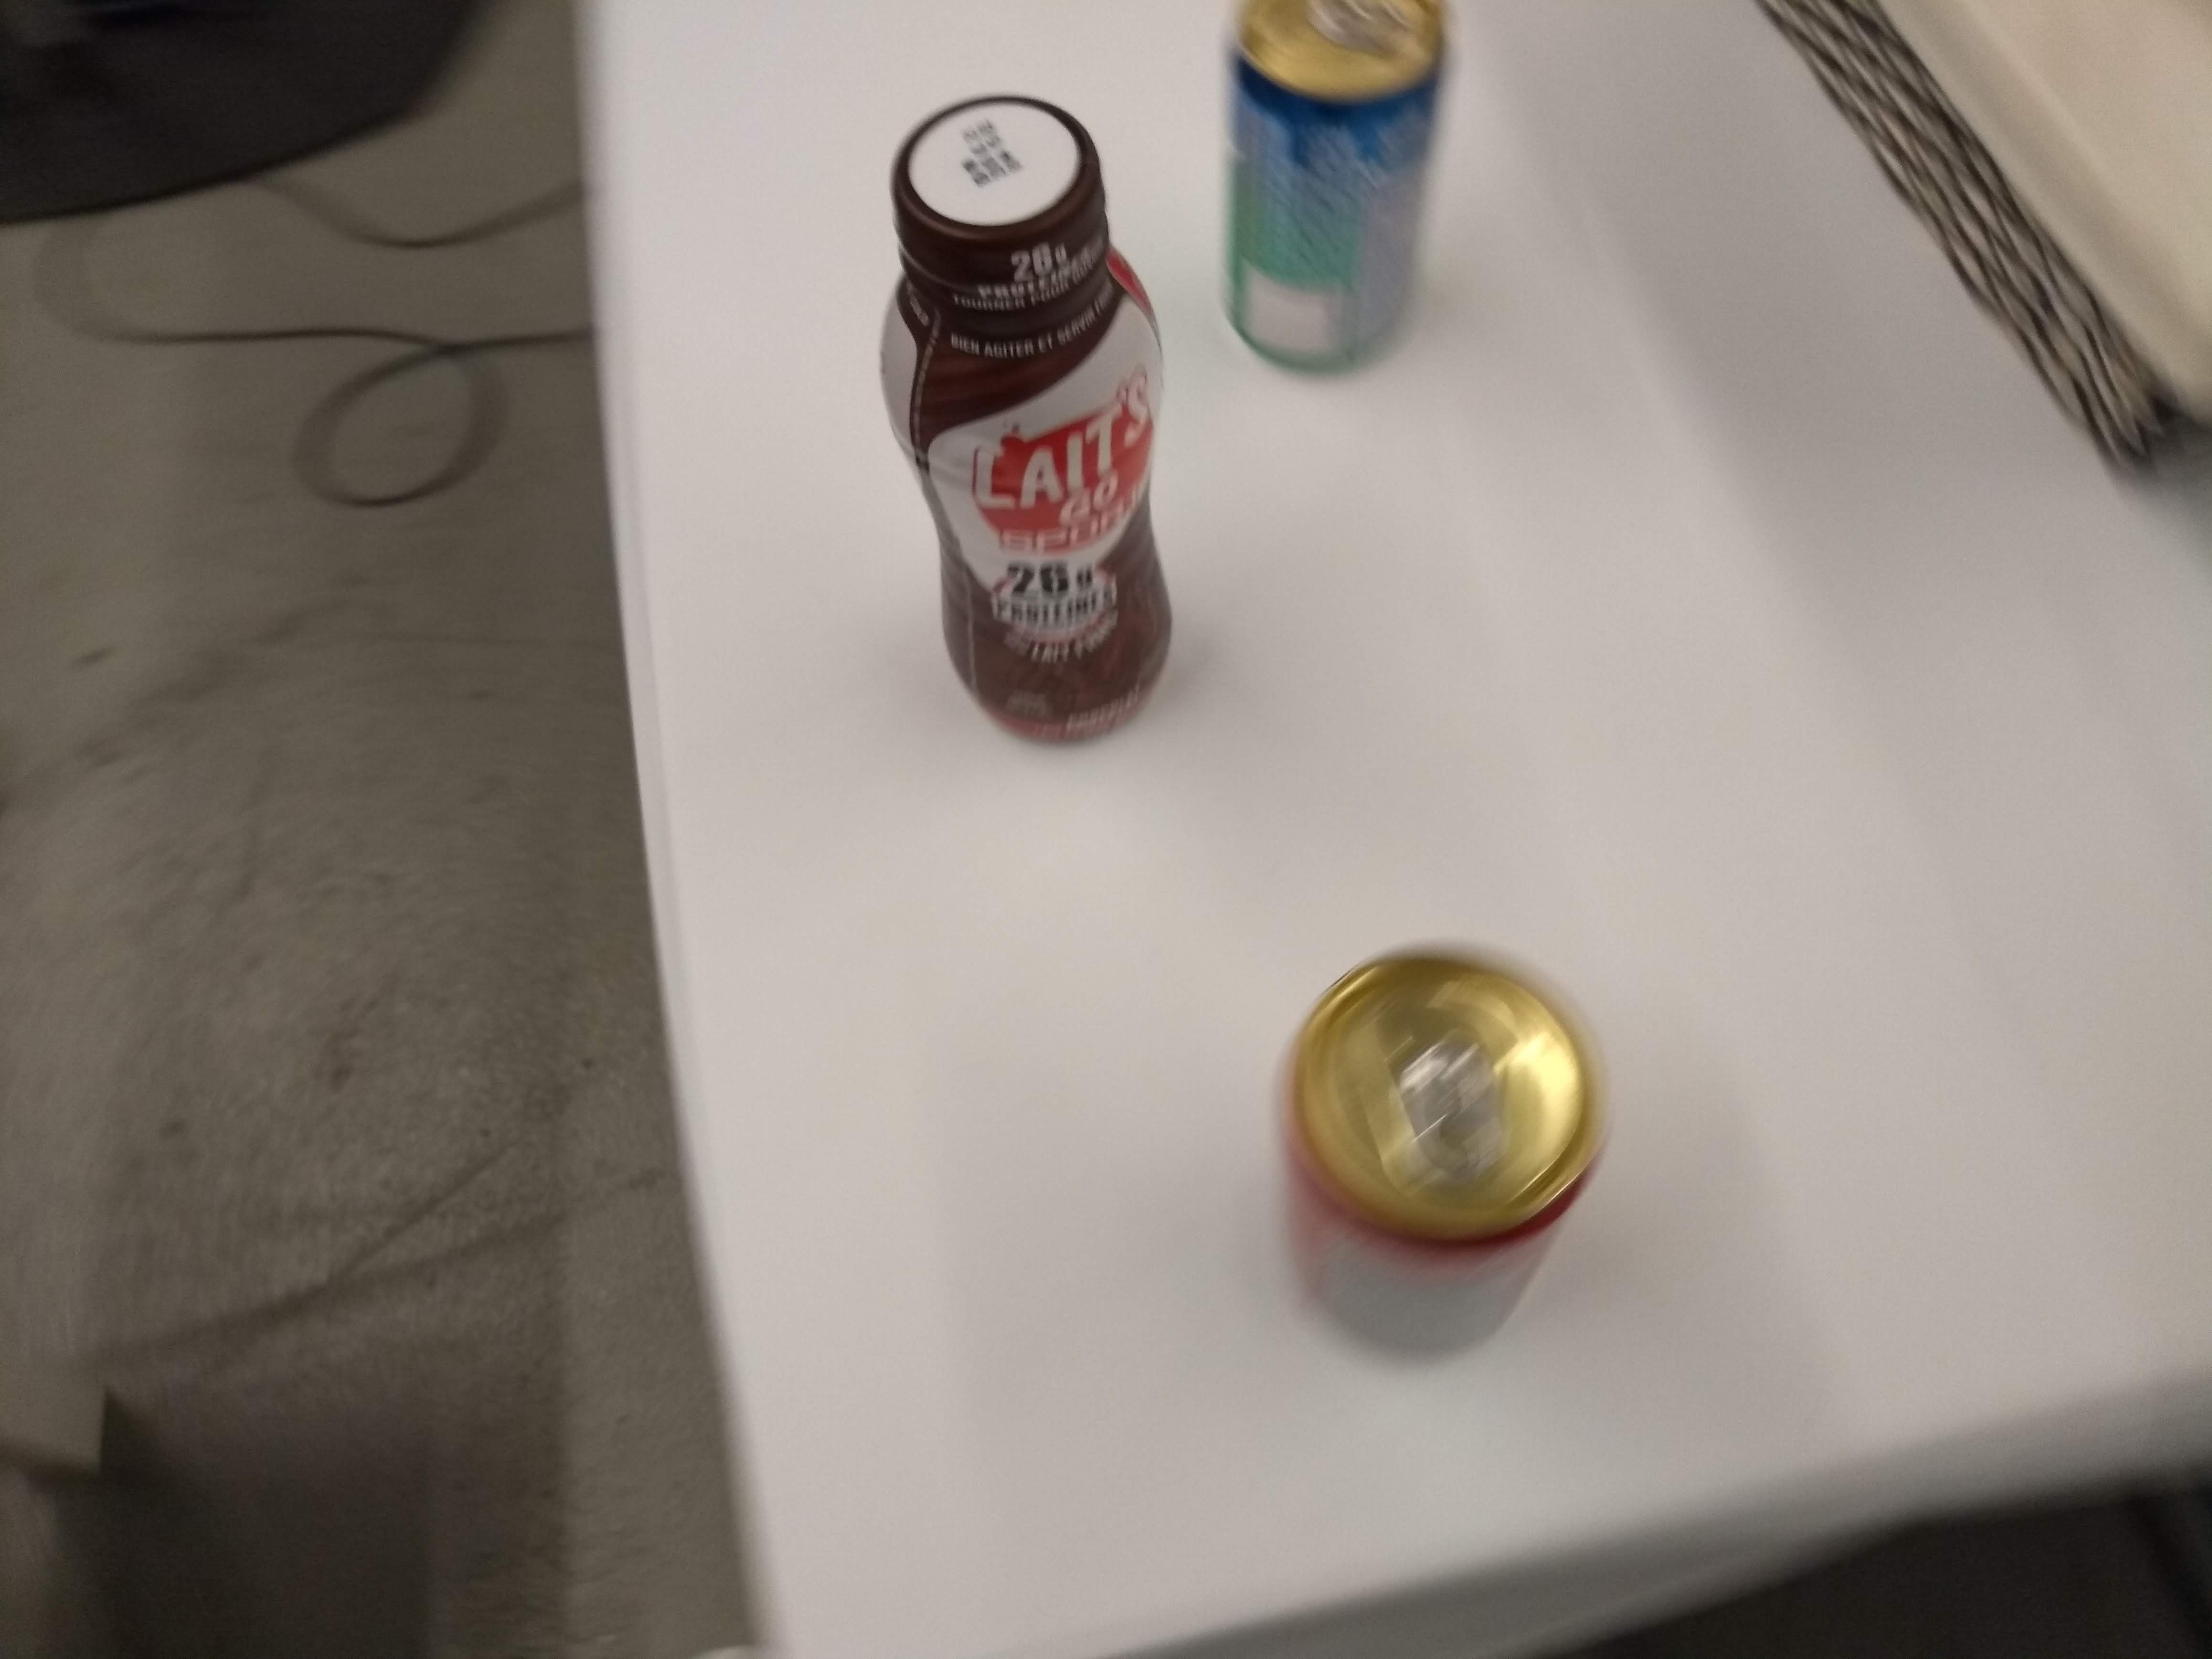chocolate_drink: (862, 92, 1205, 753)
